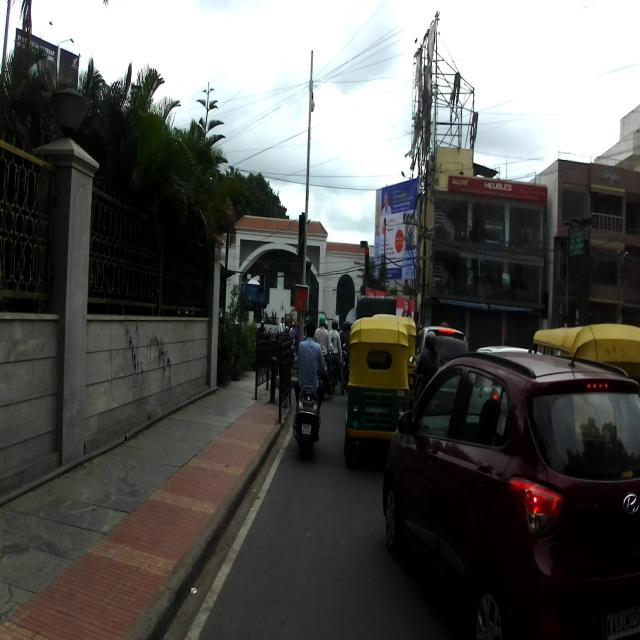Car_Hyundai: (382, 352, 640, 640)
autorickshaw: (342, 317, 410, 469)
scooter: (293, 350, 331, 456)
